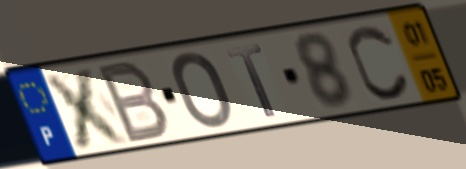8: (293, 28, 357, 113)
B: (95, 57, 173, 147)
C: (345, 22, 413, 102)
O: (169, 49, 235, 131)
T: (222, 41, 280, 119)
X: (38, 63, 135, 152)
